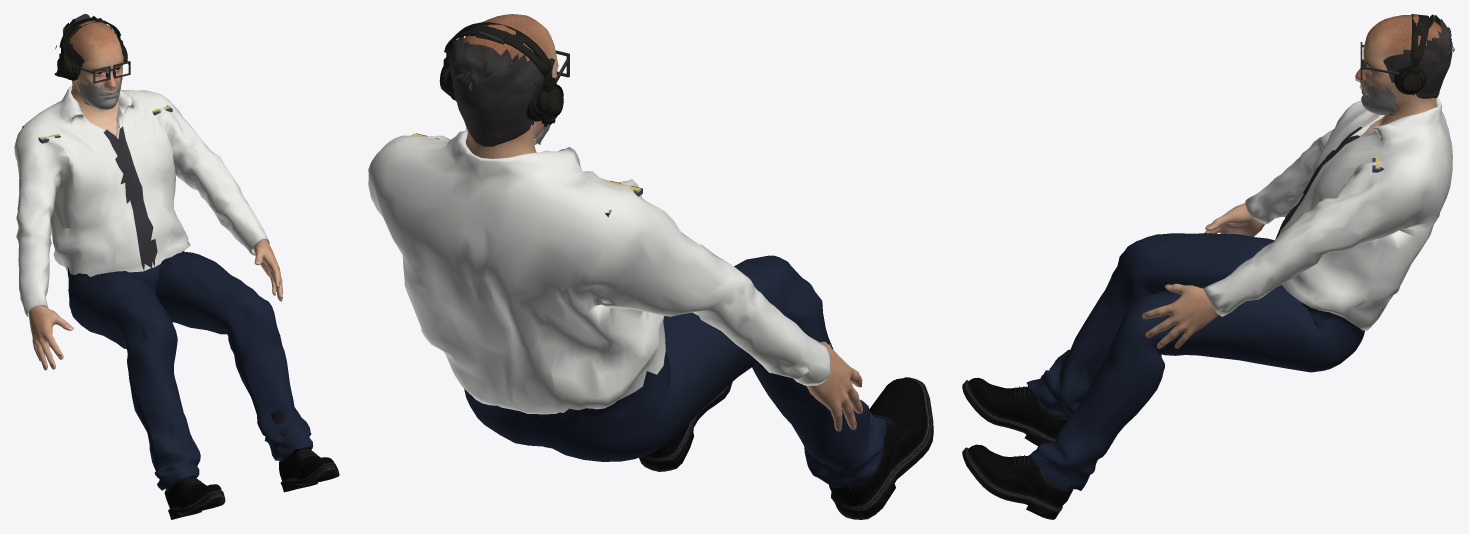
Rendered from duboc-slumped-headset-gaze.glb.
3 renders of one model, left to right at view 1: azimuth 30°, elevation 25°; view 2: azimuth 150°, elevation 25°; view 3: azimuth 270°, elevation 25°, orthographic. The views are drawn at different scales.
Parts seen in each view (by area): view 1: Human.male_pilotshirt01.001, Human.shoes03.001, Human.001, Human.001-head, tie, headset-Object_56, beard, glasses; view 2: Human.male_pilotshirt01.001, Human.shoes03.001, Human.short01.001, headset-Object_56, Human.001-head, Human.001; view 3: Human.male_pilotshirt01.001, Human.shoes03.001, Human.001, Human.001-head, Human.short01.001, headset-Object_56, beard, tie.
Boxes of the visible parts, <box> form: Human.male_pilotshirt01.001: <box>14,86,313,490</box>; Human.shoes03.001: <box>164,410,339,519</box>; Human.001: <box>28,95,282,370</box>; Human.001-head: <box>69,20,123,100</box>; tie: <box>103,125,157,271</box>; headset-Object_56: <box>54,18,127,80</box>; beard: <box>76,77,122,109</box>; glasses: <box>71,54,130,83</box>; Human.male_pilotshirt01.001: <box>368,128,886,488</box>; Human.shoes03.001: <box>639,377,933,519</box>; Human.short01.001: <box>450,36,555,146</box>; headset-Object_56: <box>439,22,563,126</box>; Human.001-head: <box>461,14,557,158</box>; Human.001: <box>482,147,862,431</box>; Human.male_pilotshirt01.001: <box>1026,97,1452,491</box>; Human.shoes03.001: <box>962,377,1072,519</box>; Human.001: <box>1141,111,1415,348</box>; Human.001-head: <box>1355,15,1441,115</box>; Human.short01.001: <box>1383,15,1454,98</box>; headset-Object_56: <box>1394,14,1429,94</box>; beard: <box>1355,78,1397,115</box>; tie: <box>1275,127,1362,239</box>.
Bounding box in the file's own units: 0.8094 × 1.29 × 1.24.
12 materials, 7 textured.
